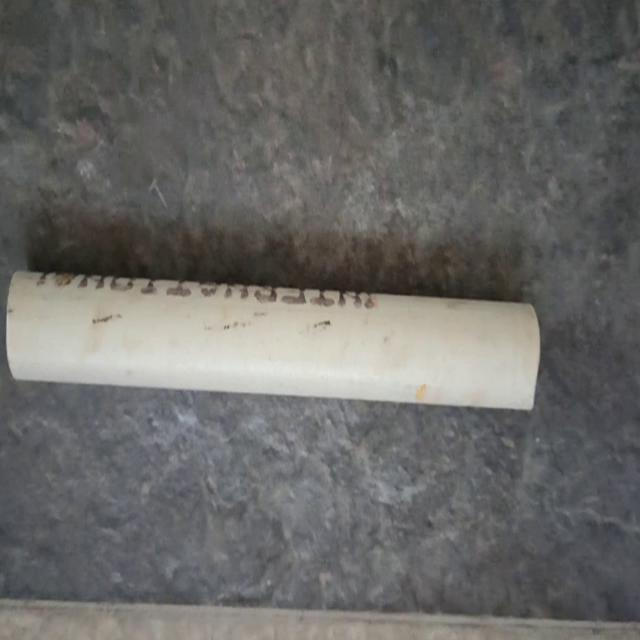Cube: (5, 266, 541, 412)
